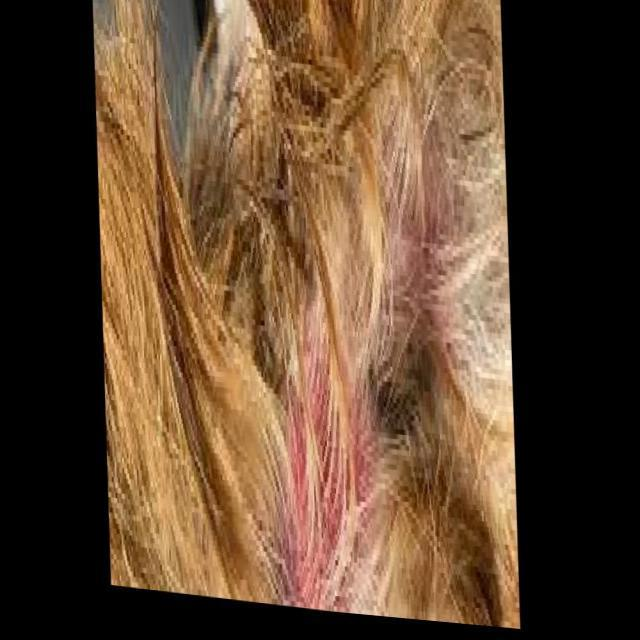allergic dermatitis: (245, 238, 403, 628)
